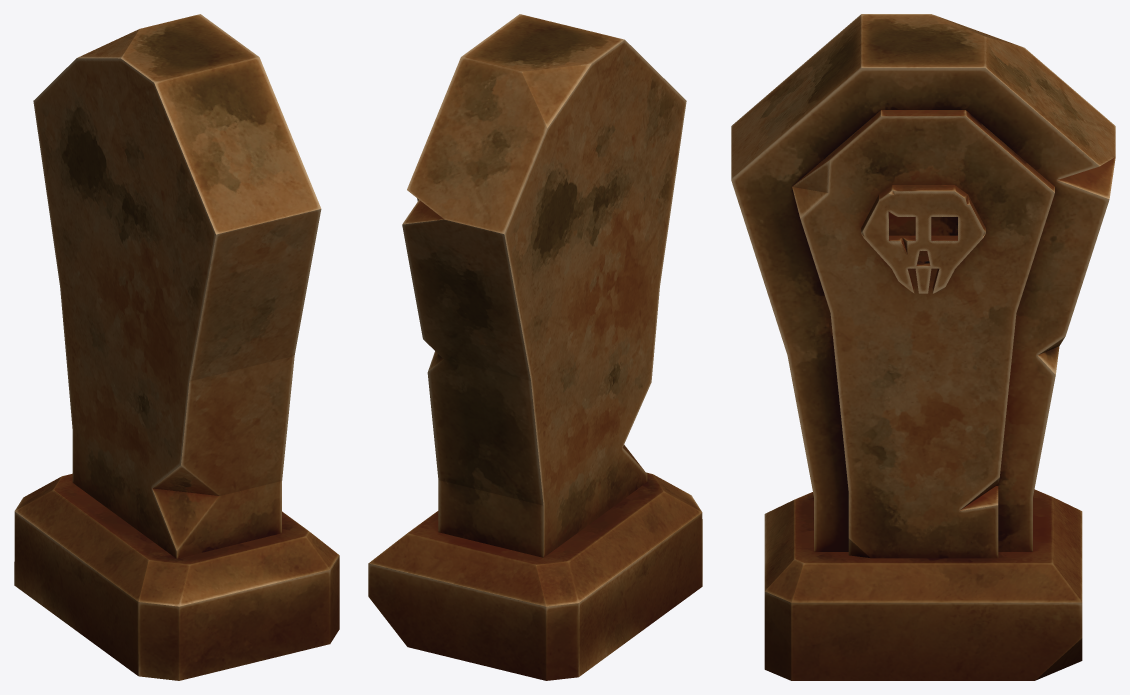
The model's file is grave.glb.
The picture shows the model from 3 angles, left to right: view 1: azimuth 30°, elevation 25°; view 2: azimuth 150°, elevation 25°; view 3: azimuth 270°, elevation 25°; orthographic projection. The views are drawn at different scales.
Parts seen in each view (by area): view 1: Cube.001, Cube; view 2: Cube.001, Cube; view 3: Cube.002, Cube.001, Cube, Cube.003.
Part boxes in pixels (x1,y1,x2,y2): Cube.001: (33, 14, 321, 558); Cube: (14, 473, 339, 680); Cube.001: (402, 14, 686, 557); Cube: (368, 472, 702, 680); Cube.002: (792, 110, 1054, 558); Cube.001: (731, 14, 1115, 551); Cube: (764, 489, 1082, 680); Cube.003: (861, 185, 985, 293).
Bounding box in the file's own units: 1.73 × 4.65 × 2.75.
Materials: 1 (1 with a texture image).
